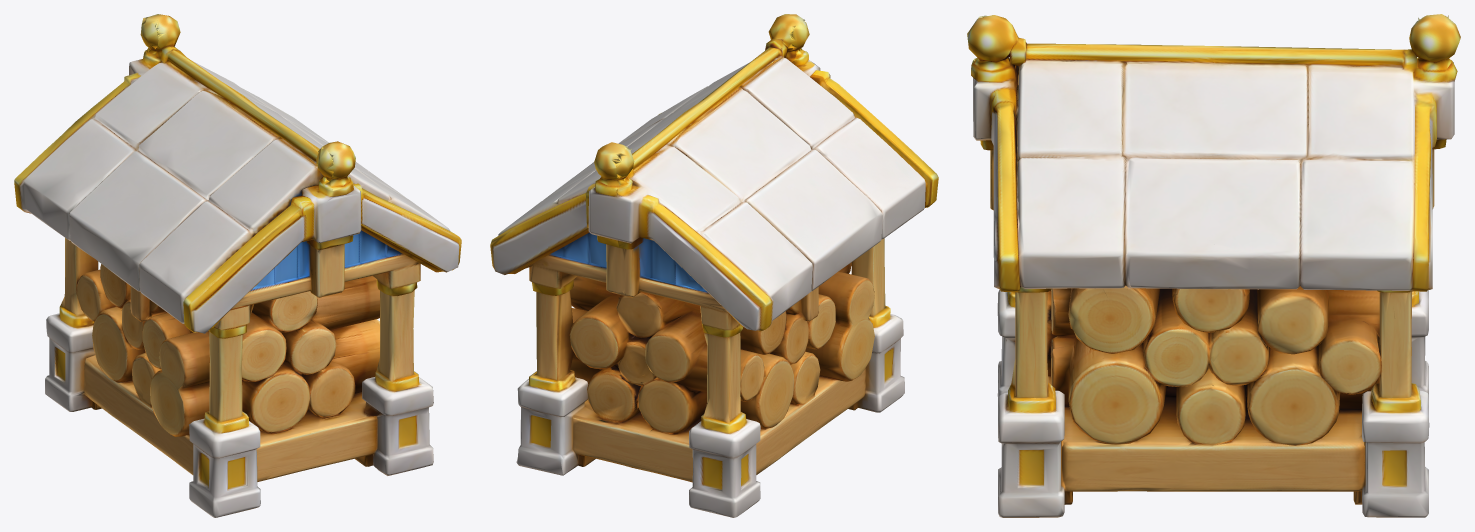
Rendered from HaloReasonHQ_Woodpile_HD_src.glb.
3 renders of one model, left to right at view 1: azimuth 30°, elevation 25°; view 2: azimuth 150°, elevation 25°; view 3: azimuth 270°, elevation 25°, orthographic. The views are drawn at different scales.
Visible parts, largest first — view 1: tripo_node_aae048de-daf6-40f2-b140-c6855beefbcb; view 2: tripo_node_aae048de-daf6-40f2-b140-c6855beefbcb; view 3: tripo_node_aae048de-daf6-40f2-b140-c6855beefbcb.
Boxes of the visible parts, x1=… form: tripo_node_aae048de-daf6-40f2-b140-c6855beefbcb: x1=14, y1=14, x2=461, y2=517; tripo_node_aae048de-daf6-40f2-b140-c6855beefbcb: x1=490, y1=14, x2=938, y2=517; tripo_node_aae048de-daf6-40f2-b140-c6855beefbcb: x1=967, y1=14, x2=1460, y2=517.
Bounding box in the file's own units: 0.808 × 0.9659 × 0.9813.
1 material, 1 textured.
